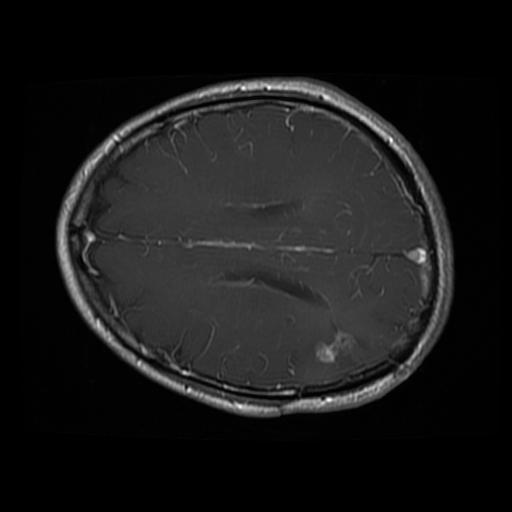glioma: (308, 319, 366, 368)
